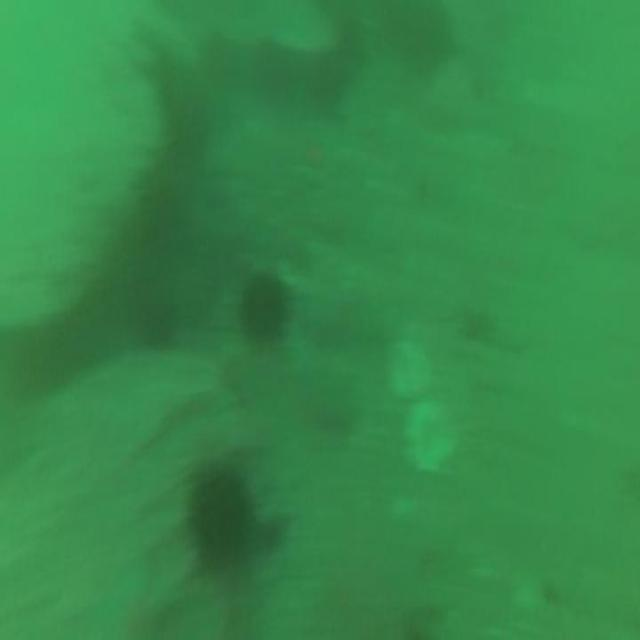echinus: (192, 469, 248, 564), (242, 273, 286, 340)
scallop: (404, 393, 456, 478)
